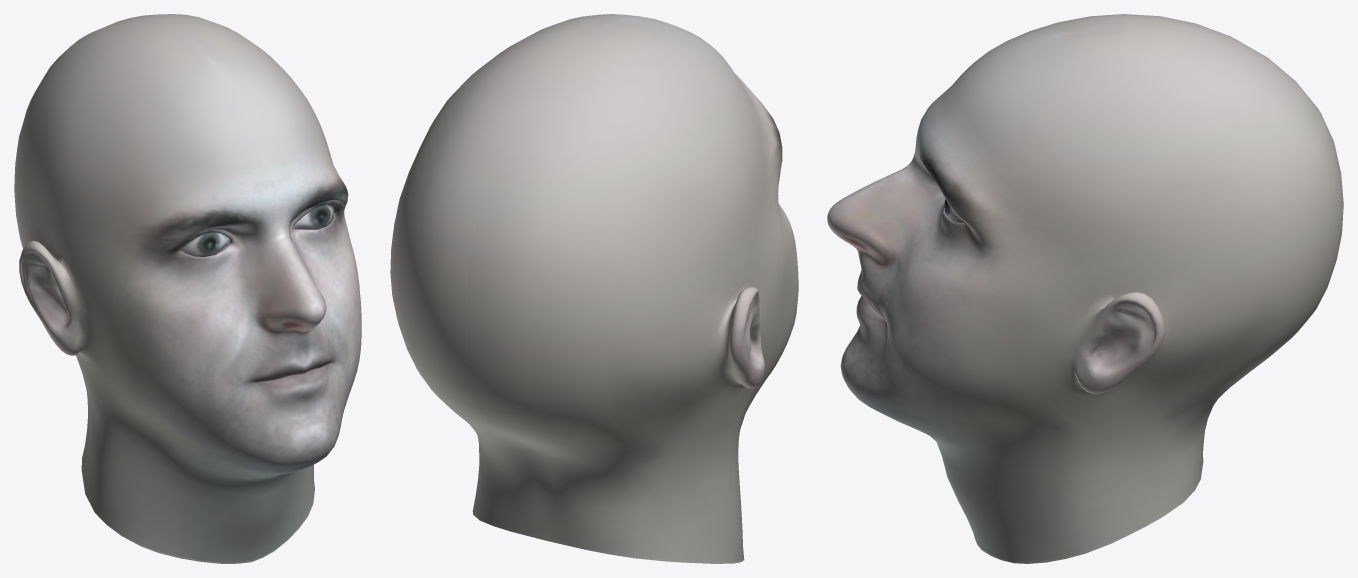
The picture shows the model from 3 angles, left to right: view 1: azimuth 30°, elevation 25°; view 2: azimuth 150°, elevation 25°; view 3: azimuth 270°, elevation 25°; orthographic projection. The views are drawn at different scales.
Parts seen in each view (by area): view 1: skin_hi, eyeR_hi, eyeL_hi; view 2: skin_hi; view 3: skin_hi.
Part boxes in pixels (x1,y1,x2,y2): skin_hi: [14, 14, 361, 563]; eyeR_hi: [180, 232, 229, 256]; eyeL_hi: [293, 204, 334, 229]; skin_hi: [390, 14, 798, 563]; skin_hi: [827, 14, 1343, 563].
Bounding box in the file's own units: 180 × 277 × 253.
3 materials, 3 textured.
